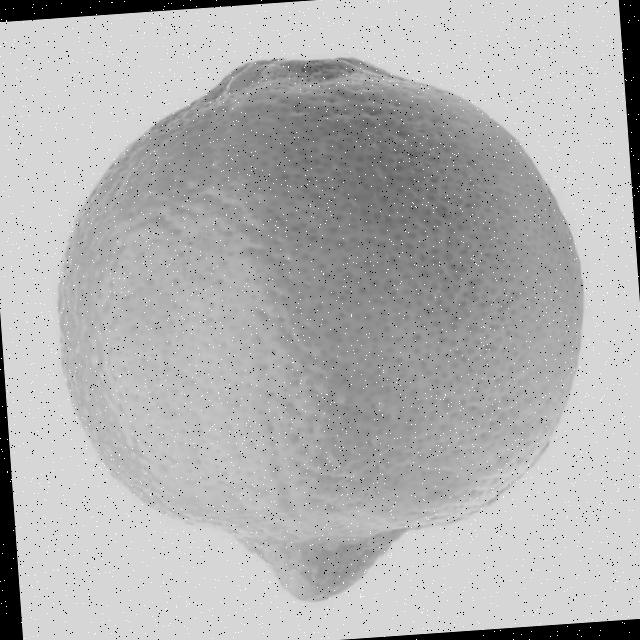Lemon: (36, 35, 607, 618)
